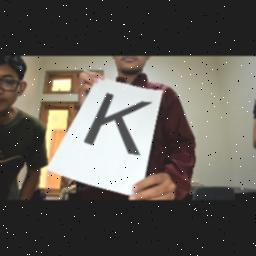k: (82, 93, 152, 159)
